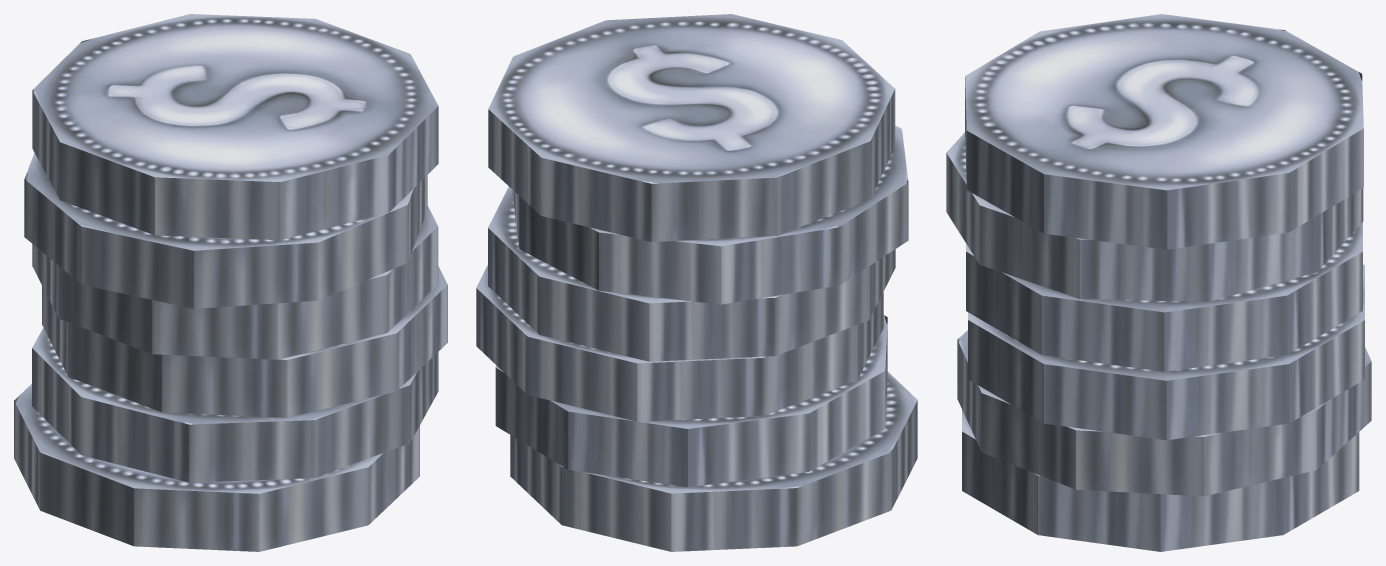
File: coin_011.fbx
The picture shows the model from 3 angles, left to right: view 1: azimuth 30°, elevation 25°; view 2: azimuth 150°, elevation 25°; view 3: azimuth 270°, elevation 25°; orthographic projection. The views are drawn at different scales.
Visible parts, largest first — view 1: coin_011; view 2: coin_011; view 3: coin_011.
Part boxes in pixels (x1,y1,x2,y2): coin_011: [14, 14, 447, 551]; coin_011: [476, 14, 917, 551]; coin_011: [946, 14, 1371, 551].
Bounding box in the file's own units: 4.63 × 4.18 × 4.33.
